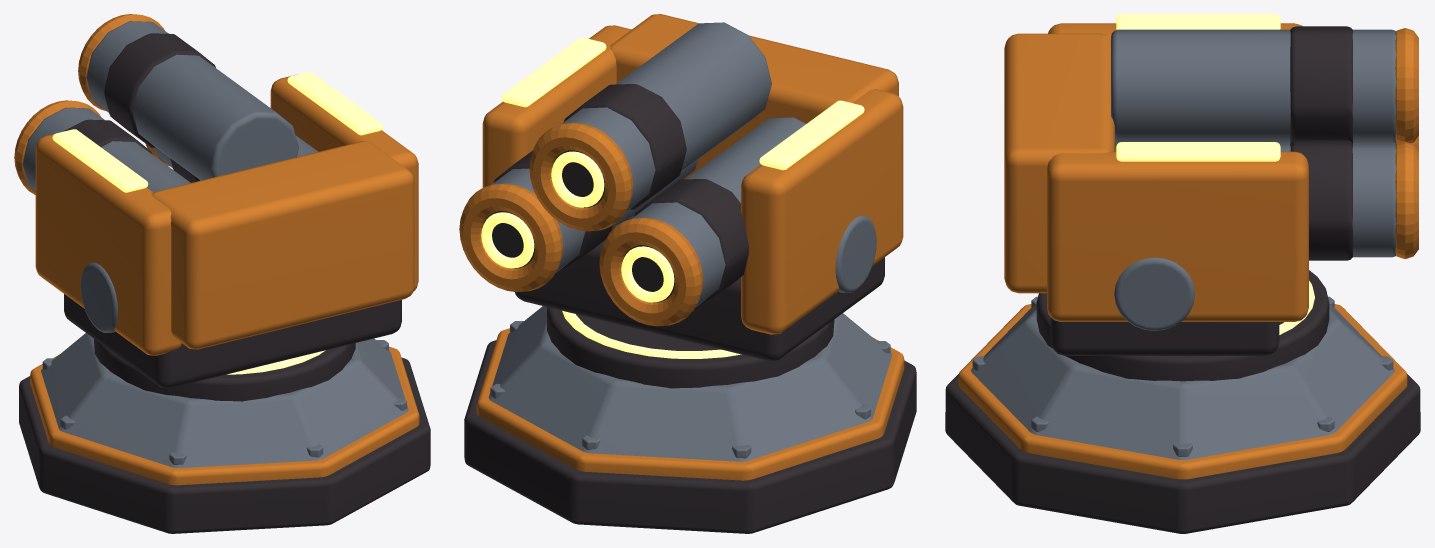
The model's file is burst.glb.
The picture shows the model from 3 angles, left to right: view 1: azimuth 30°, elevation 25°; view 2: azimuth 150°, elevation 25°; view 3: azimuth 270°, elevation 25°; orthographic projection. The views are drawn at different scales.
Visible parts, largest first — view 1: Reactor pack, Sloped armor, Anchored chassis, Hinged side armor, Blast tube.002, Elevation yoke, Trim, Turret bearing, Hinged side armor.001, Tube sleeve.002, Blast tube, Signal trim (+6 smaller); view 2: Sloped armor, Anchored chassis, Hinged side armor, Blast tube.002, Elevation yoke, Reactor pack, Trim, Turret bearing, Hinged side armor.001, Muzzle gasket, Muzzle gasket.002, Muzzle gasket.001 (+15 smaller); view 3: Hinged side armor.001, Sloped armor, Anchored chassis, Blast tube.002, Reactor pack, Trim, Elevation yoke, Tube sleeve.002, Turret bearing, Tube sleeve.001, Blast tube.001, Hinge cap.001 (+5 smaller).
Boxes of the visible parts, box(x1,y1,x2,y2) form: Reactor pack: box(151, 141, 414, 349); Sloped armor: box(41, 333, 408, 468); Anchored chassis: box(19, 357, 430, 533); Hinged side armor: box(35, 132, 181, 355); Blast tube.002: box(86, 21, 298, 180); Elevation yoke: box(64, 294, 401, 388); Trim: box(30, 346, 419, 485); Turret bearing: box(94, 339, 355, 401); Hinged side armor.001: box(270, 74, 418, 291); Tube sleeve.002: box(104, 33, 215, 147); Blast tube: box(22, 107, 190, 192); Signal trim: box(52, 129, 148, 192); Sloped armor: box(488, 306, 892, 461); Anchored chassis: box(464, 340, 916, 533); Hinged side armor: box(741, 89, 903, 334); Blast tube.002: box(562, 22, 771, 212); Elevation yoke: box(515, 216, 884, 361); Reactor pack: box(610, 14, 898, 179); Trim: box(476, 328, 904, 480); Turret bearing: box(547, 307, 834, 388); Hinged side armor.001: box(482, 25, 631, 187); Muzzle gasket: box(599, 217, 703, 326); Muzzle gasket.002: box(529, 123, 633, 231); Muzzle gasket.001: box(459, 183, 563, 292); Hinged side armor.001: box(1047, 151, 1308, 321); Sloped armor: box(971, 304, 1394, 459); Anchored chassis: box(945, 374, 1420, 533); Blast tube.002: box(1111, 29, 1396, 143); Reactor pack: box(1004, 33, 1114, 293); Trim: box(958, 304, 1407, 479); Elevation yoke: box(1050, 317, 1279, 355); Tube sleeve.002: box(1290, 26, 1352, 143); Turret bearing: box(1036, 270, 1329, 381); Tube sleeve.001: box(1290, 140, 1352, 260); Blast tube.001: box(1115, 143, 1396, 257); Hinge cap.001: box(1114, 257, 1195, 330).
Size of the model in its own units: 1.85 by 1.73 by 1.85.
